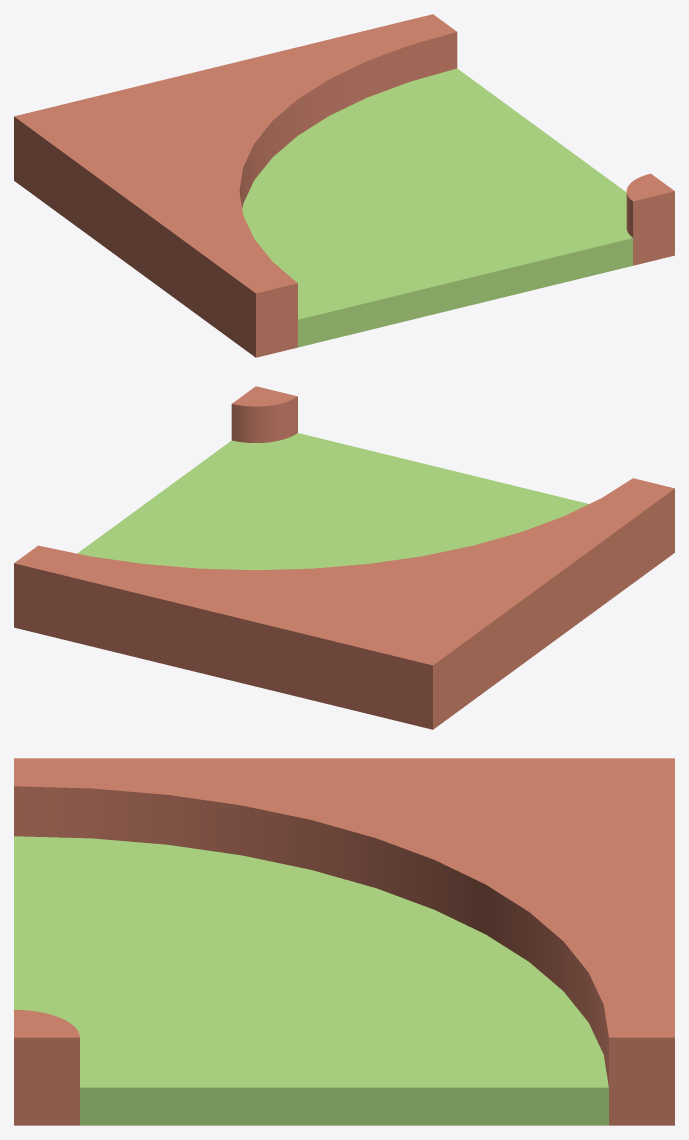
The model's file is Round_corner_2_01.glb.
3 views of the same model, one above another, from view 1: azimuth 30°, elevation 25°; view 2: azimuth 150°, elevation 25°; view 3: azimuth 270°, elevation 25° (orthographic). The views are drawn at different scales.
Parts seen in each view (by area): view 1: Mesh1 Round_corner_2 Model; view 2: Mesh1 Round_corner_2 Model; view 3: Mesh1 Round_corner_2 Model.
Boxes of the visible parts, x1=… form: Mesh1 Round_corner_2 Model: x1=14, y1=14, x2=674, y2=357; Mesh1 Round_corner_2 Model: x1=14, y1=386, x2=674, y2=729; Mesh1 Round_corner_2 Model: x1=14, y1=758, x2=674, y2=1125.
Size of the model in its own units: 3 by 0.44 by 3.
